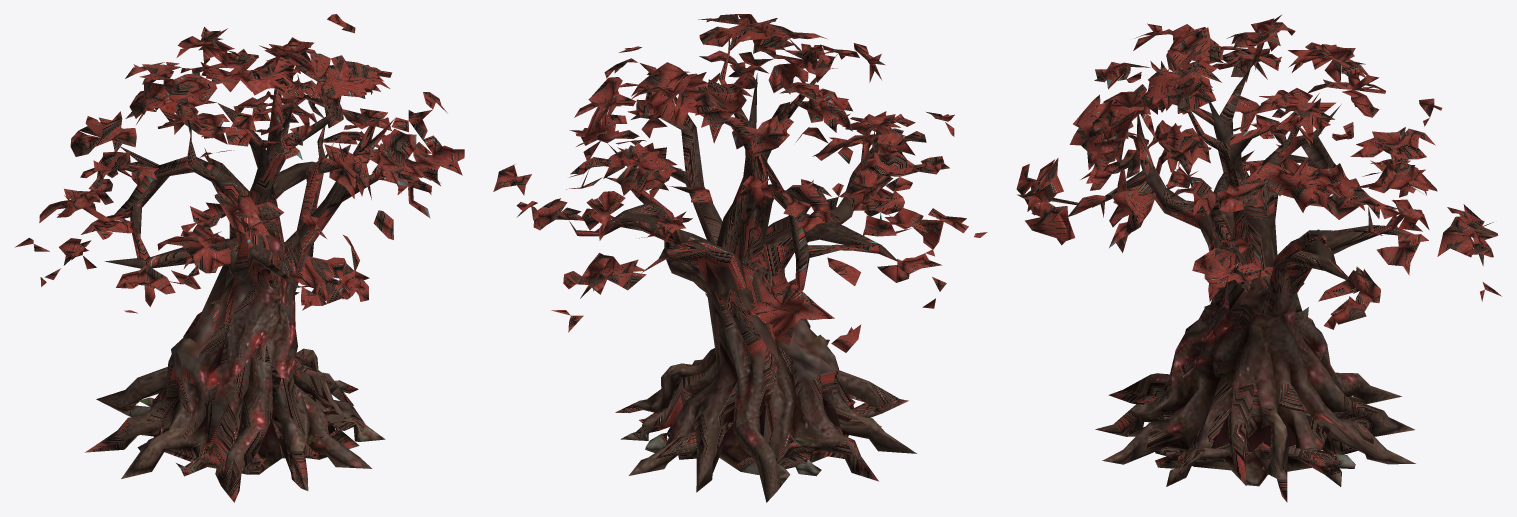
File: fantasy-tree-lod.glb
The picture shows the model from 3 angles, left to right: view 1: azimuth 30°, elevation 25°; view 2: azimuth 150°, elevation 25°; view 3: azimuth 270°, elevation 25°; orthographic projection. The views are drawn at different scales.
Visible parts, largest first — view 1: tripo_node_1826a5c7-7786-42d4-a7db-57e3a0628828; view 2: tripo_node_1826a5c7-7786-42d4-a7db-57e3a0628828; view 3: tripo_node_1826a5c7-7786-42d4-a7db-57e3a0628828.
Part boxes in pixels (left/top/right/bottom): tripo_node_1826a5c7-7786-42d4-a7db-57e3a0628828: left=15, top=14, right=464, bottom=502; tripo_node_1826a5c7-7786-42d4-a7db-57e3a0628828: left=493, top=14, right=987, bottom=502; tripo_node_1826a5c7-7786-42d4-a7db-57e3a0628828: left=1016, top=15, right=1501, bottom=502.
Size of the model in its own units: 0.9486 by 0.9055 by 0.9649.
1 material, 1 textured.
